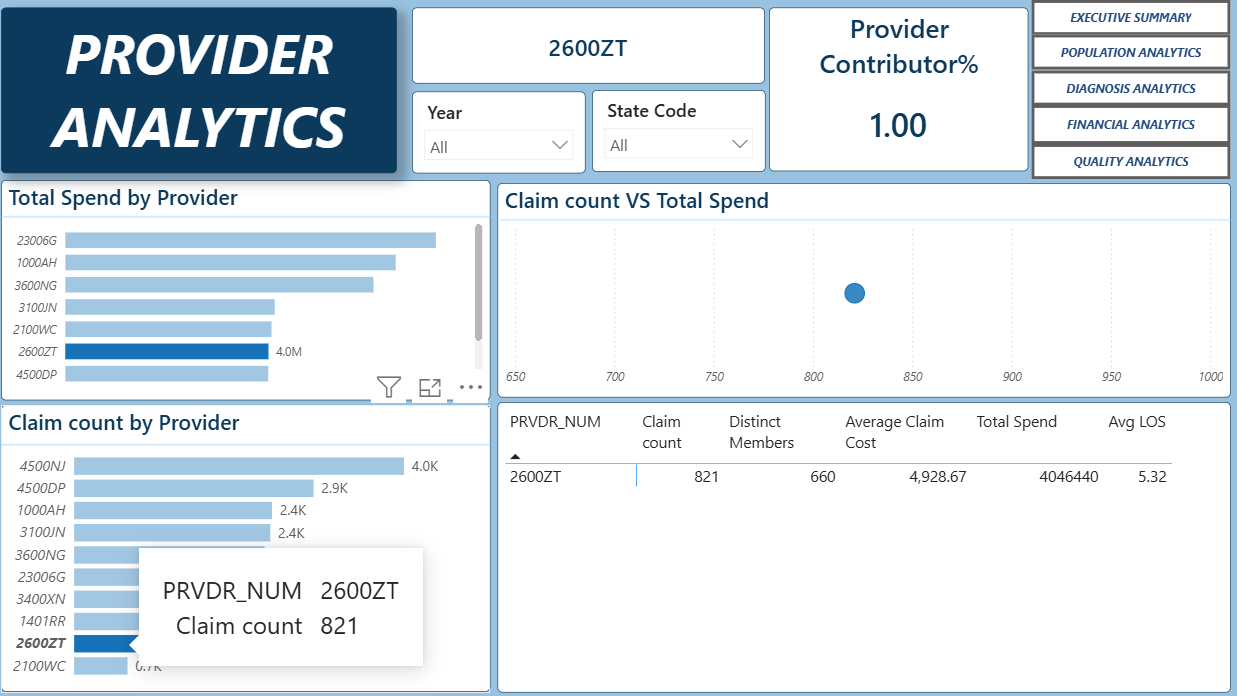

The page's visual inventory and layout, read from the dashboard file:
{"tool":"powerbi","page":{"name":"Provider Analytics","canvas":[1280,720],"ordinal":3},"visuals":[{"type":"clusteredBarChart","title":"Total Spend  by Provider","fields":{"Category":["Dim_Provider.PRVDR_NUM"],"Y":["Measures_Healthcare.Total Spend"]},"box":[6,184,502,226],"z":0},{"type":"clusteredBarChart","title":"Claim count by Provider","fields":{"Category":["Dim_Provider.PRVDR_NUM"],"Y":["Measures_Healthcare.Claim count"]},"box":[6,416,502,294],"z":1000},{"type":"scatterChart","title":"Claim count VS Total Spend","fields":{"X":["Measures_Healthcare.Claim count"],"Category":["Dim_Provider.PRVDR_NUM"],"Y":["Measures_Healthcare.Total Spend"],"Size":["Measures_Healthcare.Average Claim Cost"]},"box":[516,188,752,220],"z":2000},{"type":"pivotTable","fields":{"Rows":["Dim_Provider.PRVDR_NUM"],"Values":["Measures_Healthcare.Claim count","Measures_Healthcare.Distinct Members","Measures_Healthcare.Average Claim Cost","Measures_Healthcare.Total Spend","Measures_Healthcare.Avg LOS"]},"box":[516,412,752,298],"z":3000},{"type":"slicer","fields":{"Values":["Dim_Beneficiary.SP_STATE_CODE"]},"box":[612,92,178,84],"z":4000},{"type":"slicer","fields":{"Values":["Dim_Date.YearNum"]},"box":[428,94,178,84],"z":5000},{"type":"textbox","box":[6,8,406,170],"z":6000},{"type":"cardVisual","fields":{"Data":["Measures_Healthcare.Selected Provider"]},"box":[428,8,362,78],"z":7000},{"type":"cardVisual","title":"Provider Contributor%","fields":{"Data":["Measures_Healthcare.Provider Contribution"]},"box":[794,8,266,168],"z":8000},{"type":"actionButton","box":[1063.3,0,204,36],"z":9000},{"type":"actionButton","box":[1063.3,36,204,36],"z":10000},{"type":"actionButton","box":[1063.3,72,204,36],"z":11000},{"type":"actionButton","box":[1063.3,108,204,40],"z":12000},{"type":"actionButton","box":[1063.3,148,204,36],"z":13000},{"type":"shape","box":[6,212,502,20],"z":14000},{"type":"shape","box":[6,446,502,20],"z":15000},{"type":"shape","box":[518,216,750,20],"z":16000}]}

Visuals, with their boxes in screenshot pixels (x1, y1, x2, y2), scaled from the page's 1280x720 canvas onto the 1237x696 screenshot:
"Total Spend  by Provider" clusteredBarChart: 6, 178, 491, 396
"Claim count by Provider" clusteredBarChart: 6, 402, 491, 686
"Claim count VS Total Spend" scatterChart: 499, 182, 1225, 394
pivotTable - Dim_Provider.PRVDR_NUM x Measures_Healthcare.Claim count: 499, 398, 1225, 686
slicer - Dim_Beneficiary.SP_STATE_CODE: 591, 89, 763, 170
slicer - Dim_Date.YearNum: 414, 91, 586, 172
textbox: 6, 8, 398, 172
cardVisual - Measures_Healthcare.Selected Provider: 414, 8, 763, 83
"Provider Contributor%" cardVisual: 767, 8, 1024, 170
actionButton: 1028, 0, 1225, 35
actionButton: 1028, 35, 1225, 70
actionButton: 1028, 70, 1225, 104
actionButton: 1028, 104, 1225, 143
actionButton: 1028, 143, 1225, 178
shape: 6, 205, 491, 224
shape: 6, 431, 491, 450
shape: 501, 209, 1225, 228
